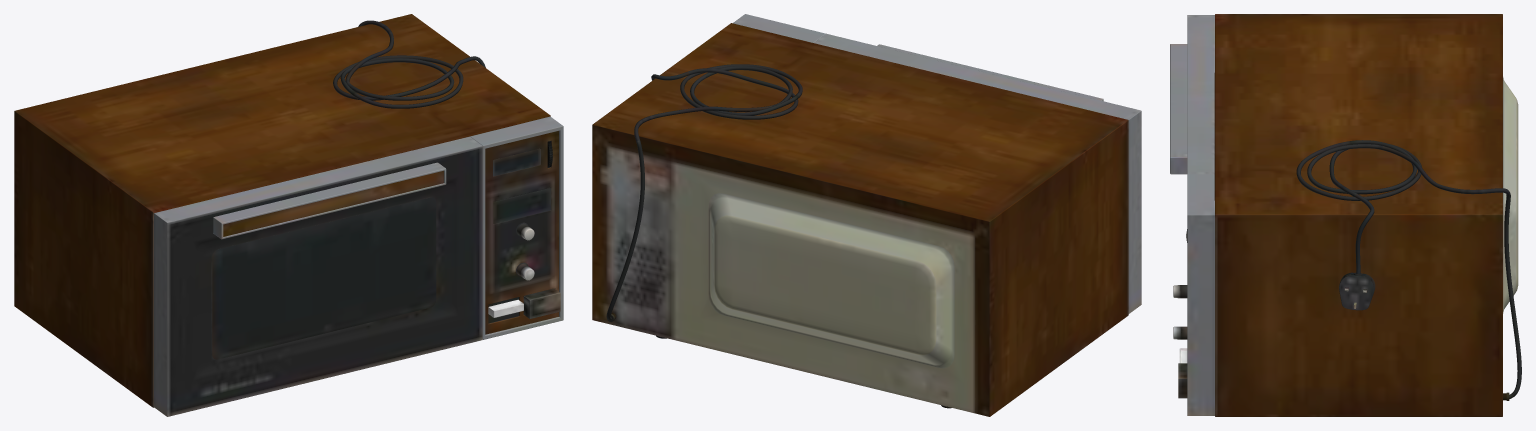
File: microwave.glb
3 views of the same model, side by side, from view 1: azimuth 30°, elevation 25°; view 2: azimuth 150°, elevation 25°; view 3: azimuth 270°, elevation 25° (orthographic). The views are drawn at different scales.
Visible parts, largest first — view 1: vintage_microwave; view 2: vintage_microwave; view 3: vintage_microwave.
Boxes of the visible parts, x1,y1,x2,y2 form: vintage_microwave: [14, 14, 563, 416]; vintage_microwave: [592, 14, 1141, 416]; vintage_microwave: [1170, 14, 1521, 416].
Size of the model in its own units: 1.07 by 0.5258 by 0.7456.
Materials: 2 (2 with a texture image).
